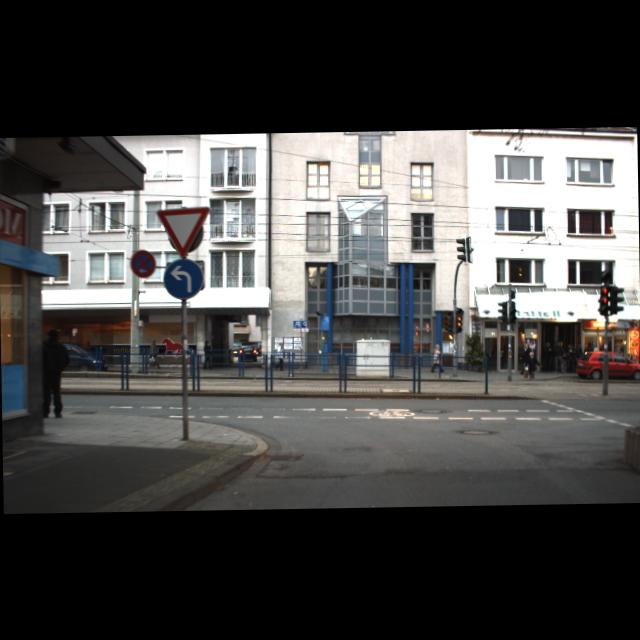mandatory: (162, 258, 205, 300)
other: (156, 205, 211, 258)
